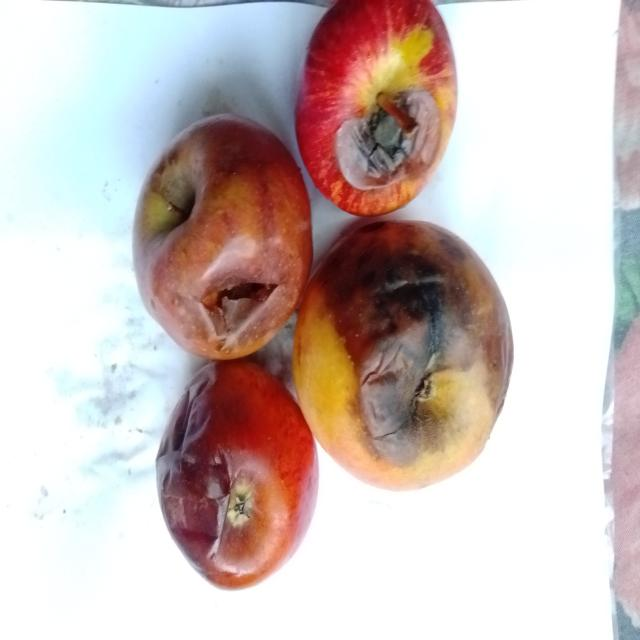apple: (293, 222, 513, 489), (134, 115, 312, 359), (157, 360, 318, 588), (296, 0, 456, 215)
